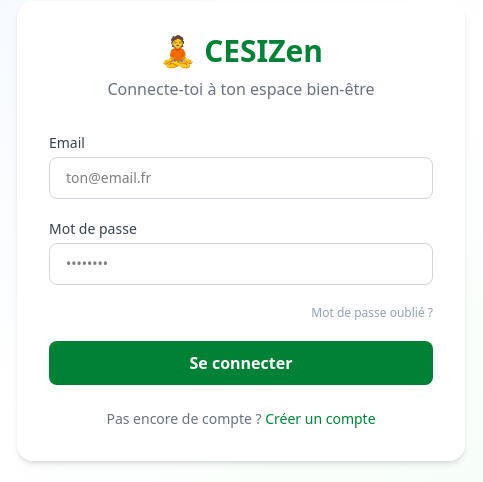
LoginPage › le bouton est désactivé pendant la soumission du formulaire
Type "test@example.com" into the field labelled "Email" at (241, 178), box [49, 157, 433, 199]
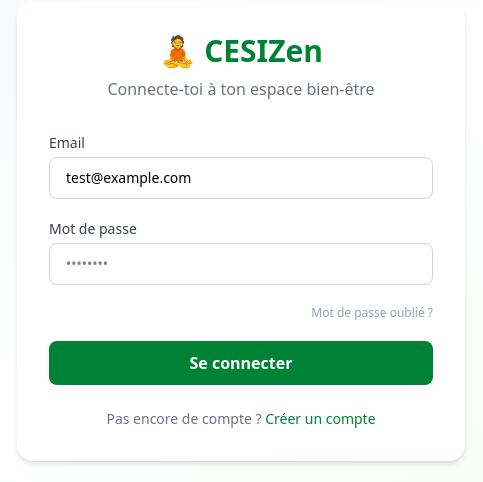
Type "mdp" into the password field labelled "Mot de passe" at (241, 264), box [49, 243, 433, 285]
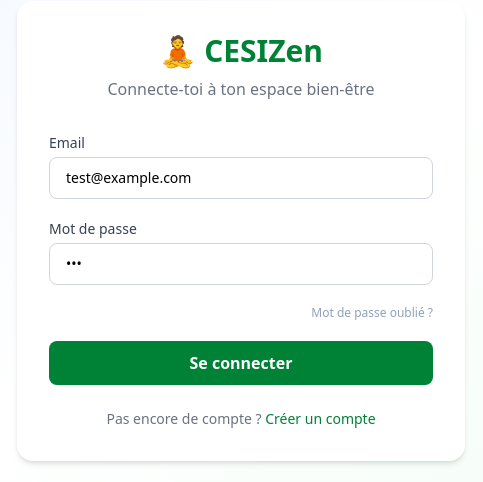
# Soumet le formulaire
Click the button "Se connecter" at (241, 363), box [49, 341, 433, 385]
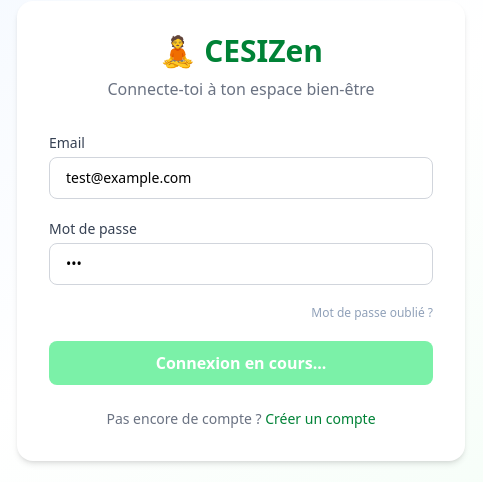
Expected: the button "Connexion en cours..." is disabled, [49, 341, 433, 385]
